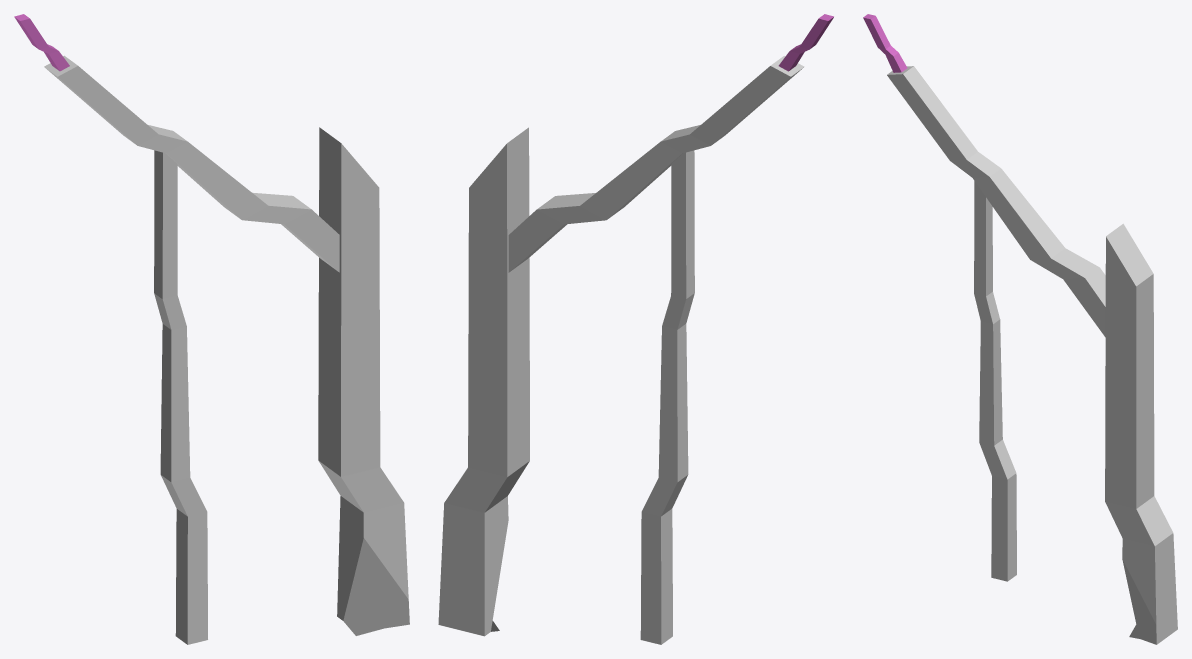
The model's file is pillar5_low.fbx.
3 renders of one model, left to right at view 1: azimuth 30°, elevation 25°; view 2: azimuth 150°, elevation 25°; view 3: azimuth 330°, elevation 25°, orthographic. The views are drawn at different scales.
Visible parts, largest first — view 1: pillar5_low; view 2: pillar5_low; view 3: pillar5_low.
Boxes of the visible parts, x1,y1,x2,y2 form: pillar5_low: (14, 14, 409, 644); pillar5_low: (438, 14, 833, 644); pillar5_low: (863, 14, 1177, 644).
Bounding box in the file's own units: 4864 × 8534 × 593.
